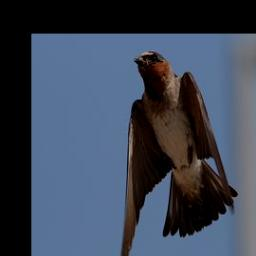Swallow: (119, 49, 238, 256)
